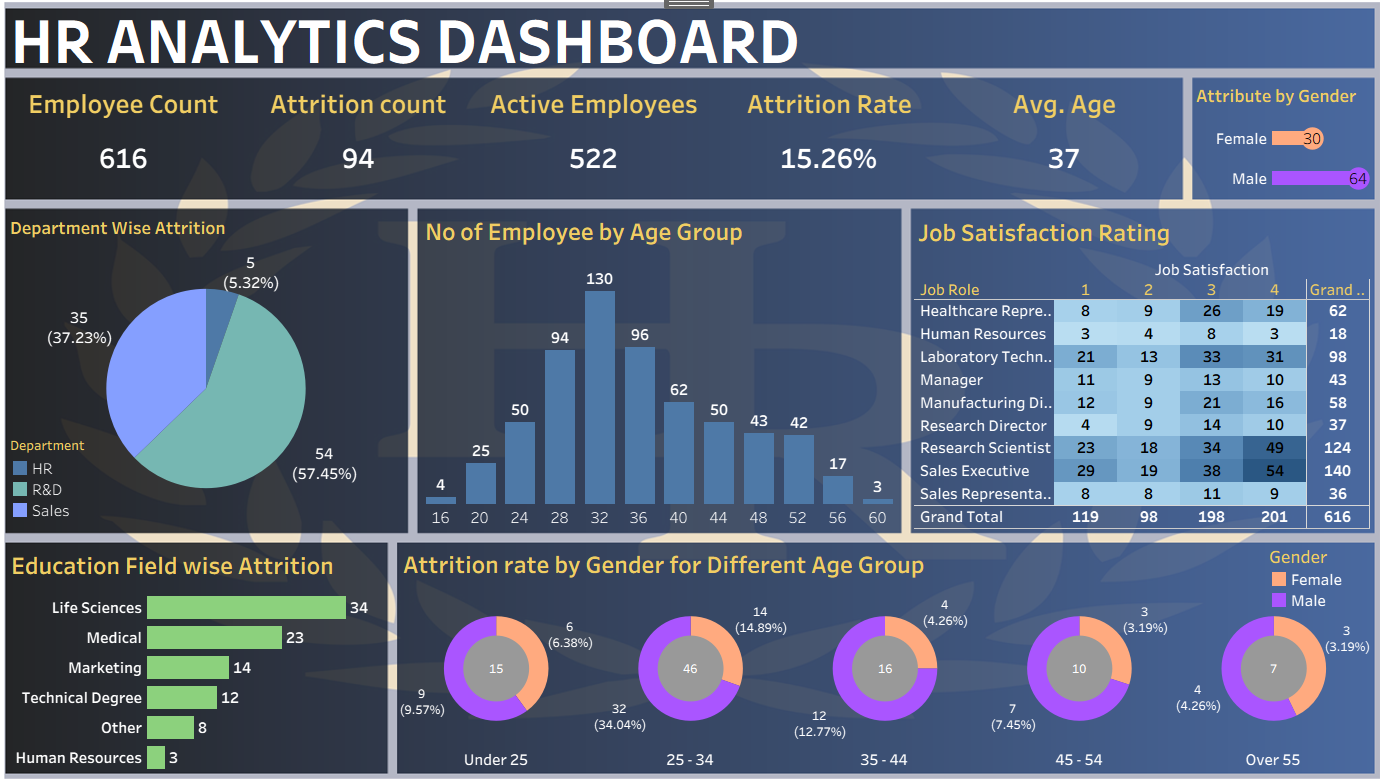

This screenshot's page, from the dashboard's own definition file:
{"tool":"tableau","page":{"name":"Hr Analytics DashBoard","canvas":[1000,1000],"units":"permille","ordinal":0},"visuals":[{"type":"image","param":"C:/Users/Darahas/Downloads/HR background.png","box":[4.8,10,990.3,980]},{"type":"text","box":[88.1,23.7,525.6,72.4]},{"type":"worksheet","title":"Attribute by Gender","mark":"Automatic","rows":["Gender"],"cols":["Calculation_198721334134349824","Calculation_198721334134349824"],"box":[803.3,111.1,110.4,148.6]},{"type":"worksheet","title":"KPI","mark":"Automatic","box":[87.5,112.4,709.7,144.8]},{"type":"worksheet","title":"Department wise Attrition","mark":"Pie","box":[87.5,275.9,241.4,394.5]},{"type":"worksheet","title":"No of Employee by Age Group","mark":"Automatic","rows":["Employee Count"],"cols":["Age (bin)"],"box":[338,275.9,287.9,397]},{"type":"worksheet","title":"Job Satisfaction Rating","mark":"Square","rows":["Job Role"],"cols":["Job Satisfaction"],"box":[635.5,277.2,275.2,395.8]},{"type":"legend","title":"Department wise Attrition","param":"[federated.1pvep0o0px4wm916realb0cfxye9].[none:Department:nk]","box":[89.9,556.8,68.2,114.9]},{"type":"worksheet","title":"Attrition rate by Gender for Different Age Group","mark":"Pie","rows":["Calculation_198721334700163077","Calculation_198721334700163077"],"cols":["CF_age band"],"box":[324.7,691.6,586.6,283.4]},{"type":"legend","title":"Attrition rate by Gender for Different Age Group","param":"[federated.1pvep0o0px4wm916realb0cfxye9].[none:Gender:nk]","box":[849.7,691.6,60.4,83.7]},{"type":"worksheet","title":"Education Field wise Attrition","mark":"Automatic","rows":["Education Field"],"cols":["Calculation_198721334134349824"],"box":[88.1,692.9,229.3,283.4]}]}

Visuals, with their boxes on the dashboard's canvas, which has no fixed pixel size, in thousandths of its width and height (x1, y1, x2, y2). These are canvas units, not pixel positions in the 1383x781 screenshot, which may show the page scaled, cropped or inside an application window:
image: (5,10,995,990)
text: (88,24,614,96)
"Attribute by Gender" worksheet: (803,111,914,260)
"KPI" worksheet: (88,112,797,257)
"Department wise Attrition" worksheet (Pie marks): (88,276,329,670)
"No of Employee by Age Group" worksheet: (338,276,626,673)
"Job Satisfaction Rating" worksheet (Square marks): (636,277,911,673)
"Department wise Attrition" legend: (90,557,158,672)
"Attrition rate by Gender for Different Age Group" worksheet (Pie marks): (325,692,911,975)
"Attrition rate by Gender for Different Age Group" legend: (850,692,910,775)
"Education Field wise Attrition" worksheet: (88,693,317,976)
